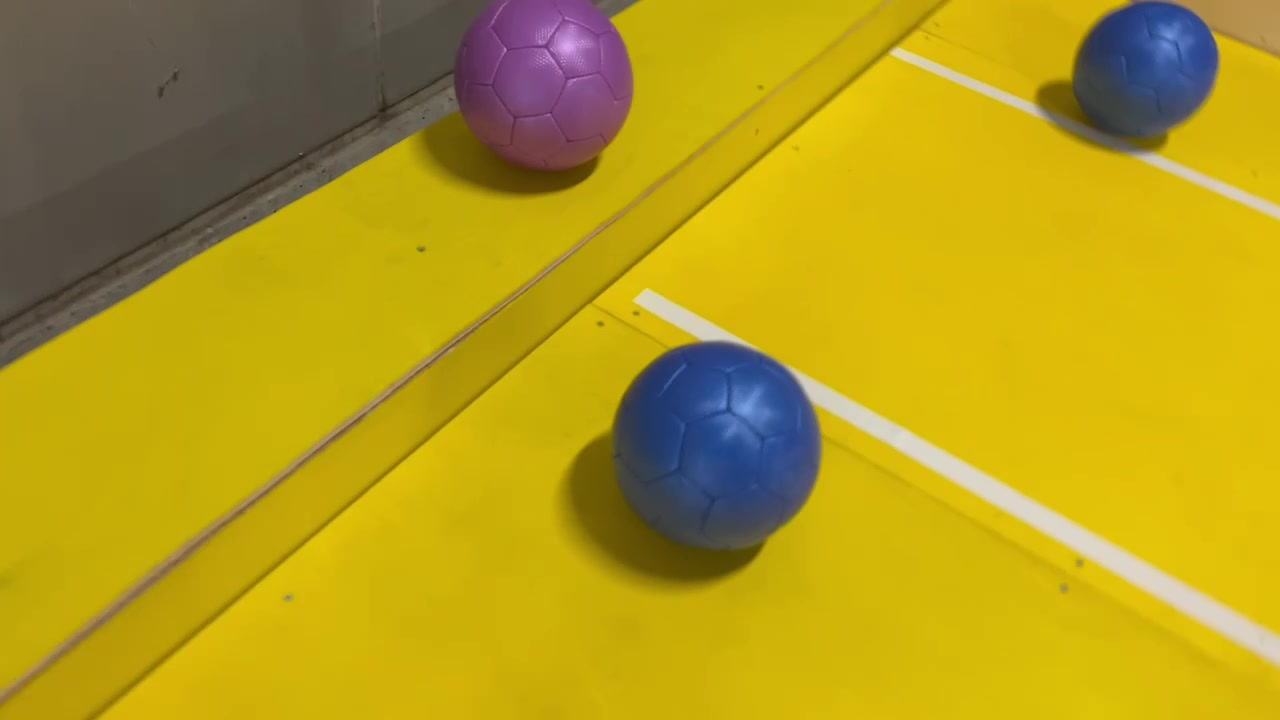blue: (610, 343, 824, 557), (1069, 0, 1222, 135)
